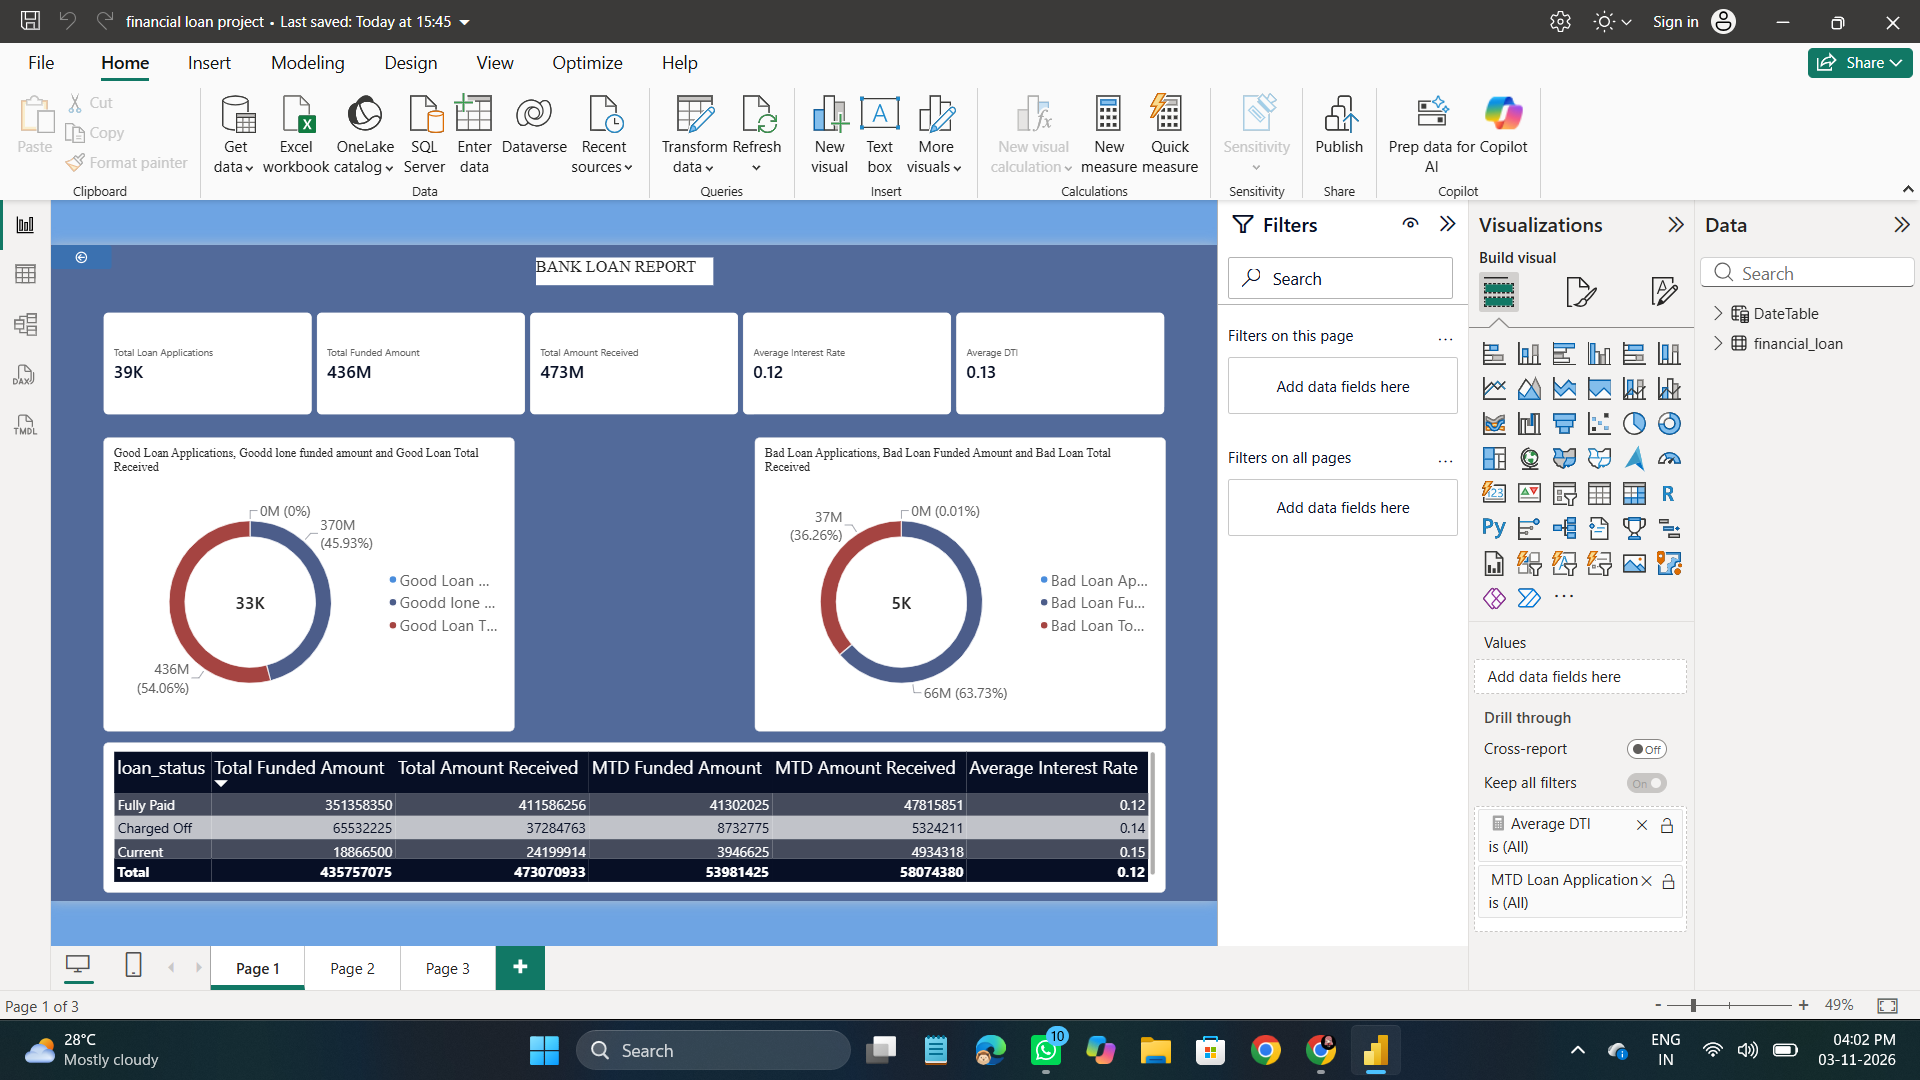

The page's visual inventory and layout, read from the dashboard file:
{"tool":"powerbi","page":{"name":"Page 1","canvas":[1920,1080],"ordinal":0},"visuals":[{"type":"textbox","title":"       BANK LOAN REPORT","box":[798.6,20.6,292.3,45.3],"z":0},{"type":"actionButton","box":[0,0,100,40],"z":1000},{"type":"cardVisual","fields":{"Data":["DateTable.Total Loan Applications","DateTable.Total Funded Amount","DateTable.Total Amount Received","DateTable.Average Interest Rate","DateTable.Average DTI"]},"box":[86.3,111.8,1749,168.6],"z":2000},{"type":"donutChart","fields":{"Y":["DateTable.Good Loan Applications","DateTable.Goodd lone funded amount","DateTable.Good Loan Total Received"]},"box":[86.3,317.6,676.5,484.3],"z":3000},{"type":"donutChart","fields":{"Y":["DateTable.Bad Loan Applications","DateTable.Bad Loan Funded Amount","DateTable.Bad Loan Total Received"]},"box":[1158.8,317.6,676.5,484.3],"z":4000},{"type":"tableEx","fields":{"Values":["financial_loan .loan_status","DateTable.Total Loan Applications","DateTable.Total Funded Amount","DateTable.Total Amount Received","DateTable.MTD Funded Amount","DateTable.MTD Amount Received","DateTable.Average Interest Rate","DateTable.Average DTI"]},"box":[86.3,819.6,1749,247.1],"z":5000}]}

Visuals, with their boxes on the page's 1920x1080 design canvas (x1, y1, x2, y2). These are canvas units, not pixel positions in the 1920x1080 screenshot, which may show the page scaled, cropped or inside an application window:
"       BANK LOAN REPORT" textbox: bbox(799, 21, 1091, 66)
actionButton: bbox(0, 0, 100, 40)
cardVisual - DateTable.Total Loan Applications x DateTable.Total Funded Amount: bbox(86, 112, 1835, 280)
donutChart - DateTable.Good Loan Applications x DateTable.Goodd lone funded amount: bbox(86, 318, 763, 802)
donutChart - DateTable.Bad Loan Applications x DateTable.Bad Loan Funded Amount: bbox(1159, 318, 1835, 802)
tableEx - financial_loan .loan_status x DateTable.Total Loan Applications: bbox(86, 820, 1835, 1067)
